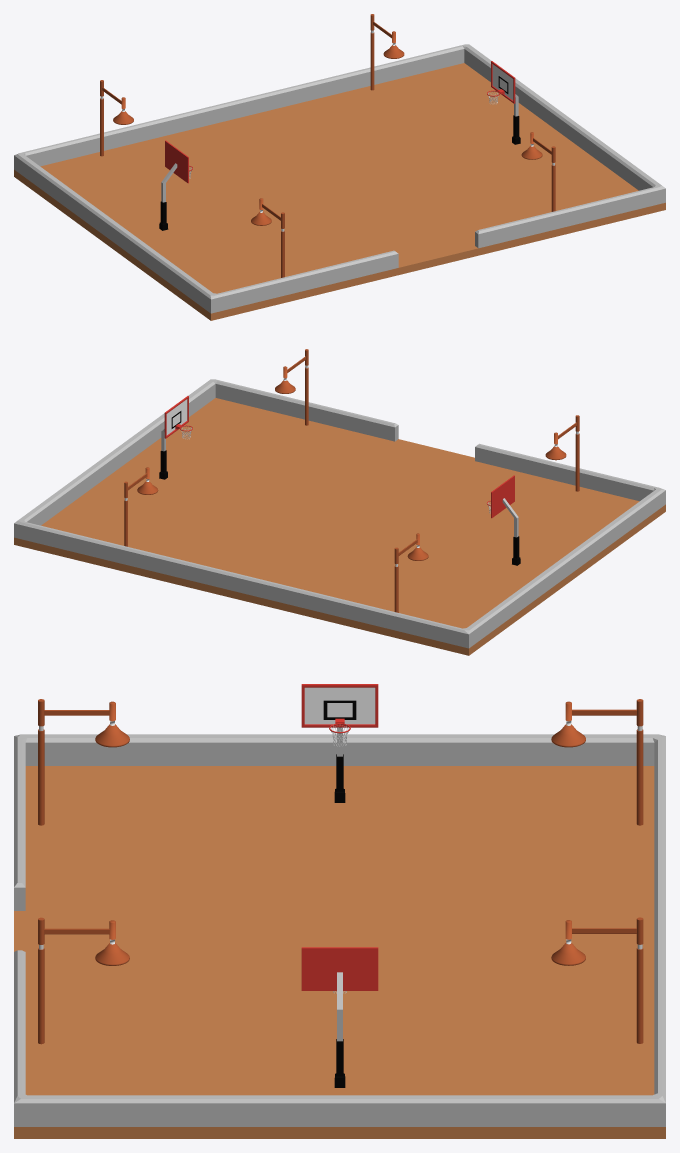
File: basketball court.fbx
3 renders of one model, top to bottom at view 1: azimuth 30°, elevation 25°; view 2: azimuth 150°, elevation 25°; view 3: azimuth 270°, elevation 25°, orthographic. The views are drawn at different scales.
Visible parts, largest first — view 1: Plane, Cylinder, Cylinder.001, Cylinder.005, Cylinder.002, Cylinder.004, Cylinder.003; view 2: Plane, Cylinder, Cylinder.001, Cylinder.003, Cylinder.004, Cylinder.002, Cylinder.005; view 3: Plane, Cylinder.001, Cylinder, Cylinder.004, Cylinder.005, Cylinder.002, Cylinder.003.
Boxes of the visible parts, x1,y1,x2,y2 form: Plane: [14, 44, 665, 320]; Cylinder: [487, 61, 520, 144]; Cylinder.001: [159, 140, 192, 230]; Cylinder.005: [370, 14, 404, 90]; Cylinder.002: [521, 132, 555, 211]; Cylinder.004: [100, 80, 133, 156]; Cylinder.003: [251, 198, 284, 277]; Plane: [14, 379, 665, 655]; Cylinder: [159, 396, 192, 479]; Cylinder.001: [487, 475, 520, 565]; Cylinder.003: [545, 415, 579, 491]; Cylinder.004: [394, 533, 428, 612]; Cylinder.002: [275, 349, 308, 425]; Cylinder.005: [124, 467, 158, 546]; Plane: [14, 734, 665, 1138]; Cylinder.001: [301, 684, 378, 802]; Cylinder: [301, 947, 378, 1087]; Cylinder.004: [551, 699, 643, 825]; Cylinder.005: [551, 917, 643, 1043]; Cylinder.002: [38, 917, 129, 1044]; Cylinder.003: [38, 699, 129, 825].
Size of the model in its own units: 1000 by 177 by 750.
